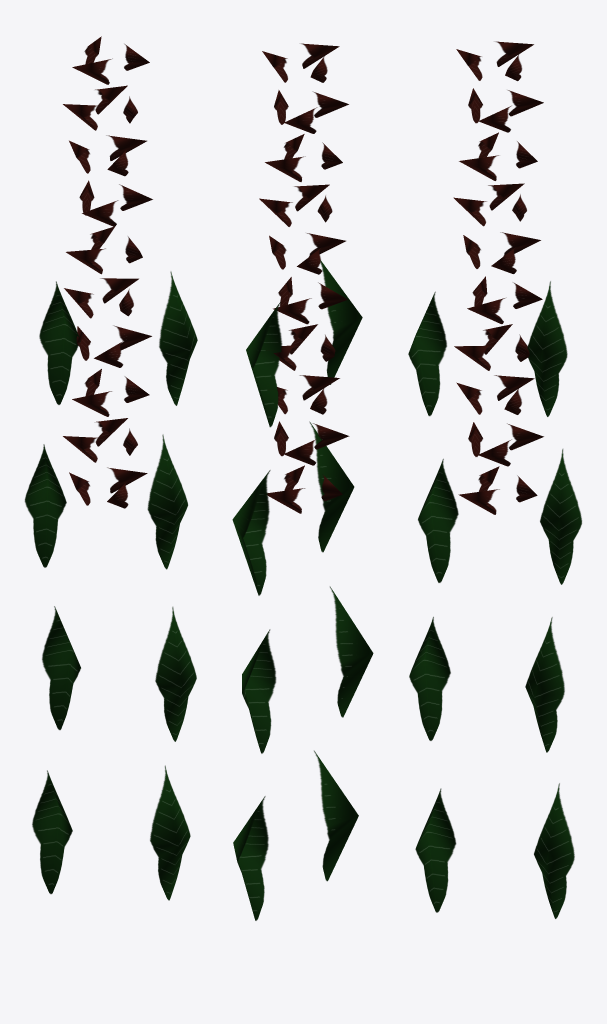
File: Herb_CardinalFlower.glb
3 views of the same model, side by side, from view 1: azimuth 90°, elevation 25°; view 2: azimuth 150°, elevation 25°; view 3: azimuth 270°, elevation 25° (orthographic).
Visible parts, largest first — view 1: Herb_CardinalFlower; view 2: Herb_CardinalFlower; view 3: Herb_CardinalFlower.
Part boxes in pixels (box(x1,y1,x2,y2)): Herb_CardinalFlower: box(24, 36, 197, 900); Herb_CardinalFlower: box(232, 43, 373, 920); Herb_CardinalFlower: box(408, 41, 581, 918).
Size of the model in its own units: 0.0734 by 0.8003 by 0.1393.
1 material, 1 textured.
